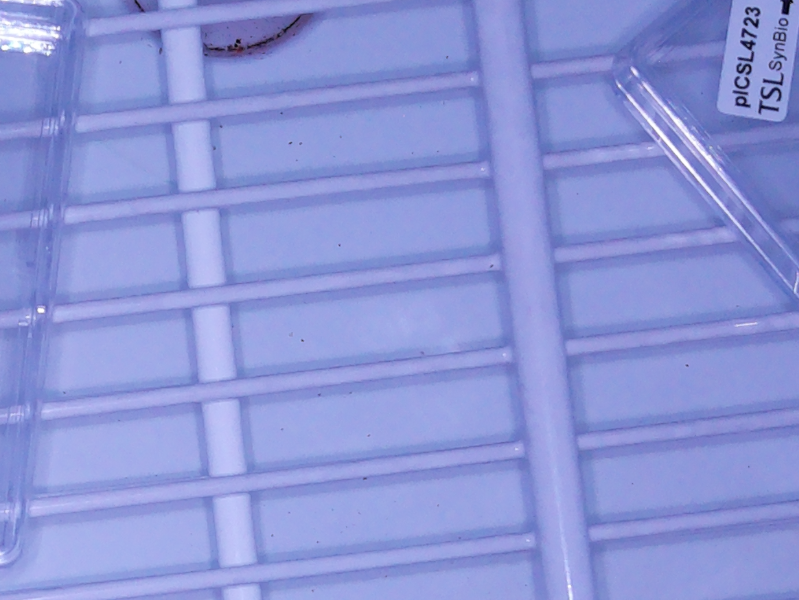plate: (607, 1, 799, 305), (1, 1, 87, 569)
